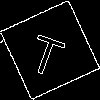T: (25, 25, 70, 79)
